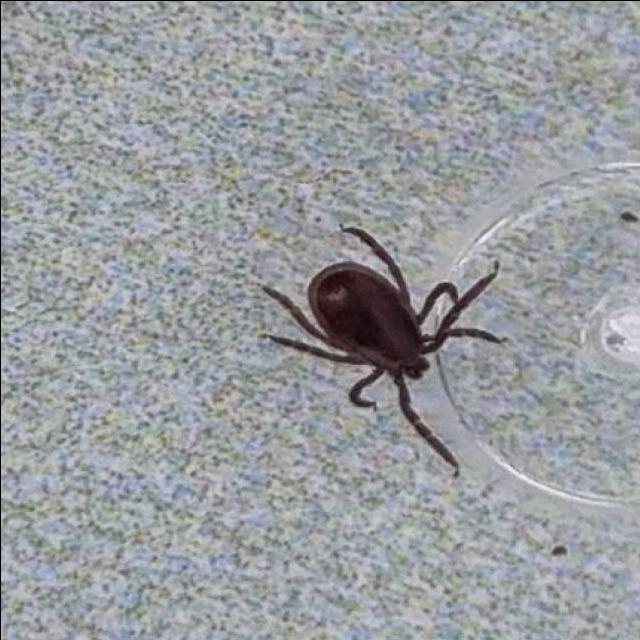Ixodes Ricinus-M: (257, 223, 499, 475)
